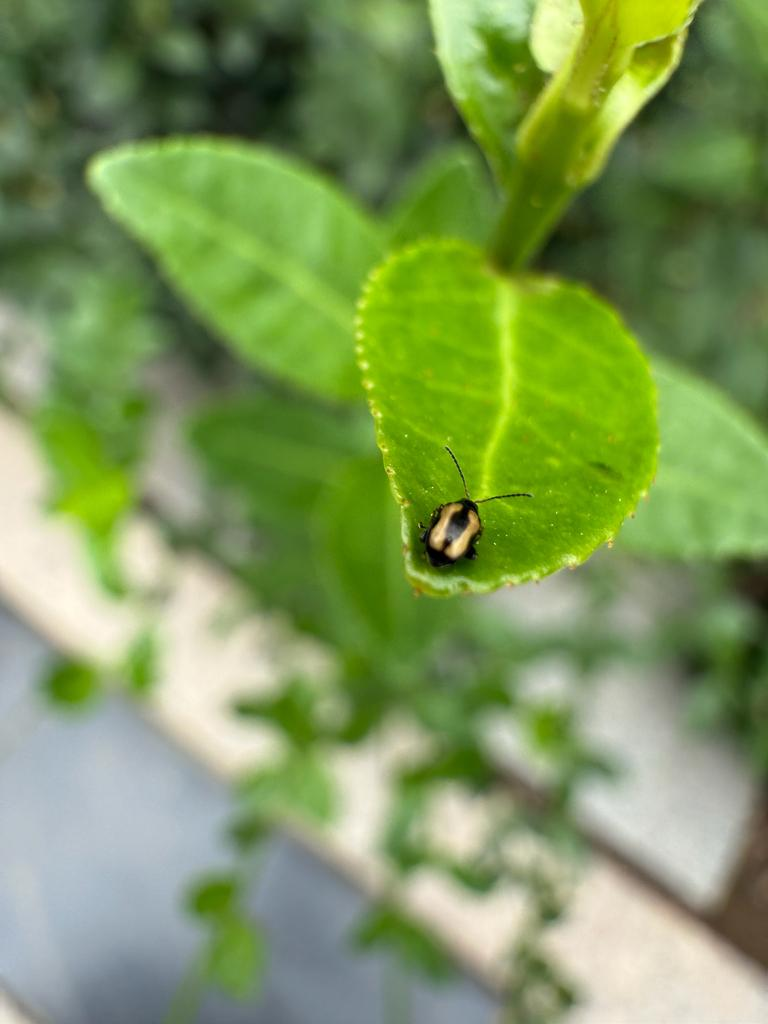flea_beetle: (382, 420, 547, 584)
